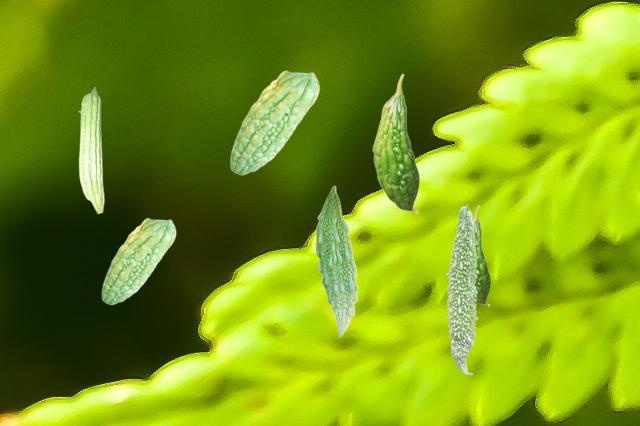ampalaya: (229, 70, 320, 175), (371, 73, 420, 214), (315, 185, 359, 337), (101, 217, 176, 305), (445, 203, 479, 375), (78, 86, 104, 214), (473, 205, 491, 306)
